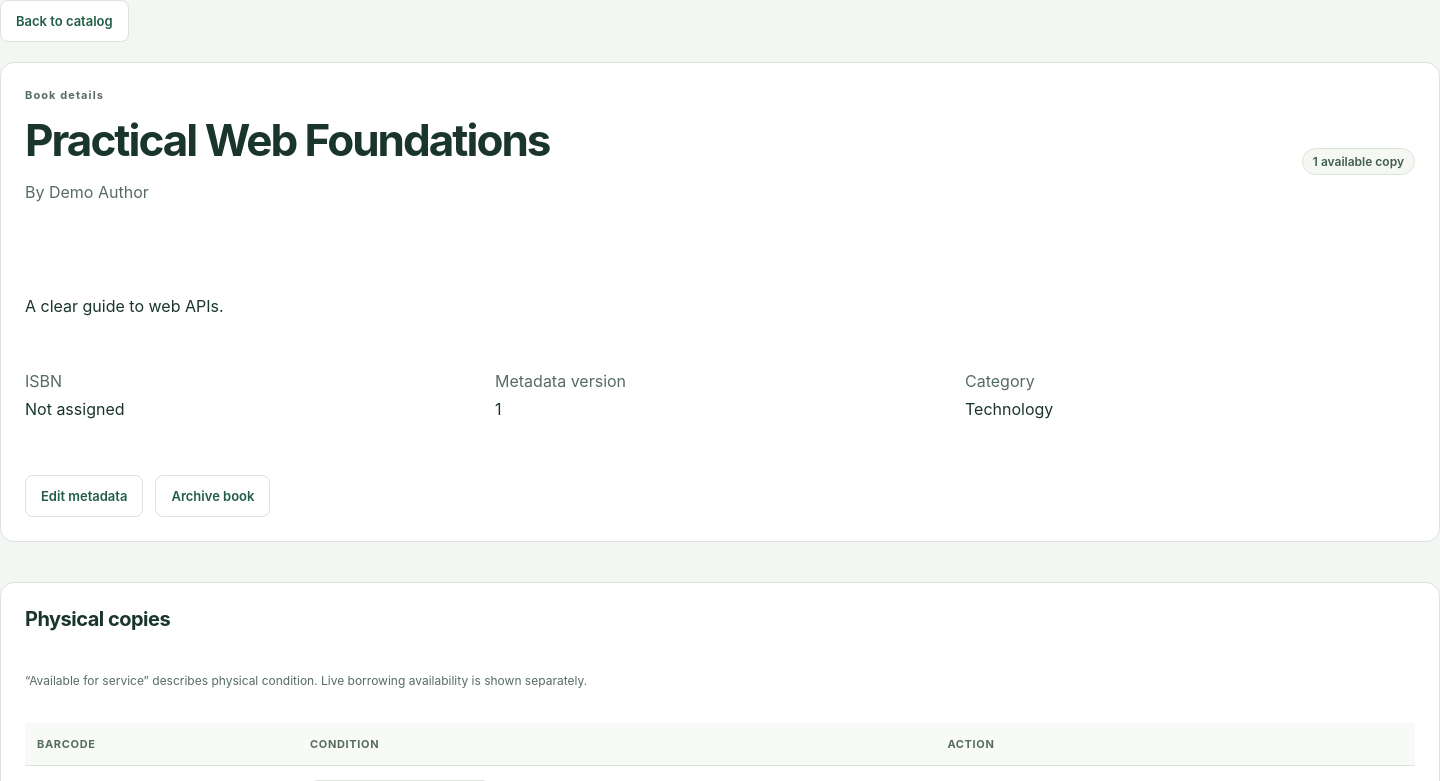
Test: catalog and copy screens › submits only editable book metadata and excludes resource DTO fields
The image size is (1440, 781).
Check: the heading "Practical Web Foundations" is shown, box 25,112 -> 550,166
Step 1. Click the button "Edit metadata" → (84, 496), box 25,475 -> 144,517
(page scrolled)
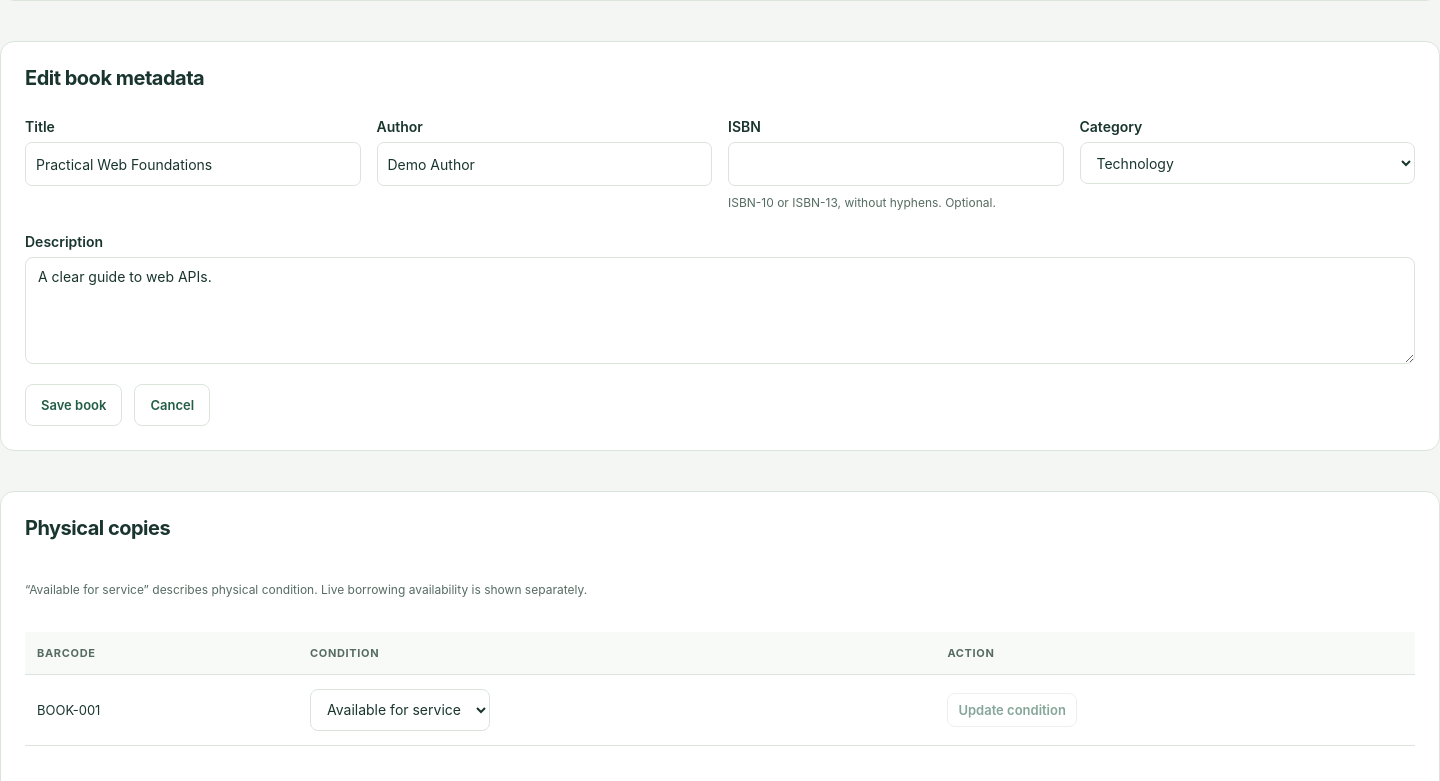
Step 2. Click the button "Save book" → (74, 405), box 25,384 -> 122,426
(page scrolled)
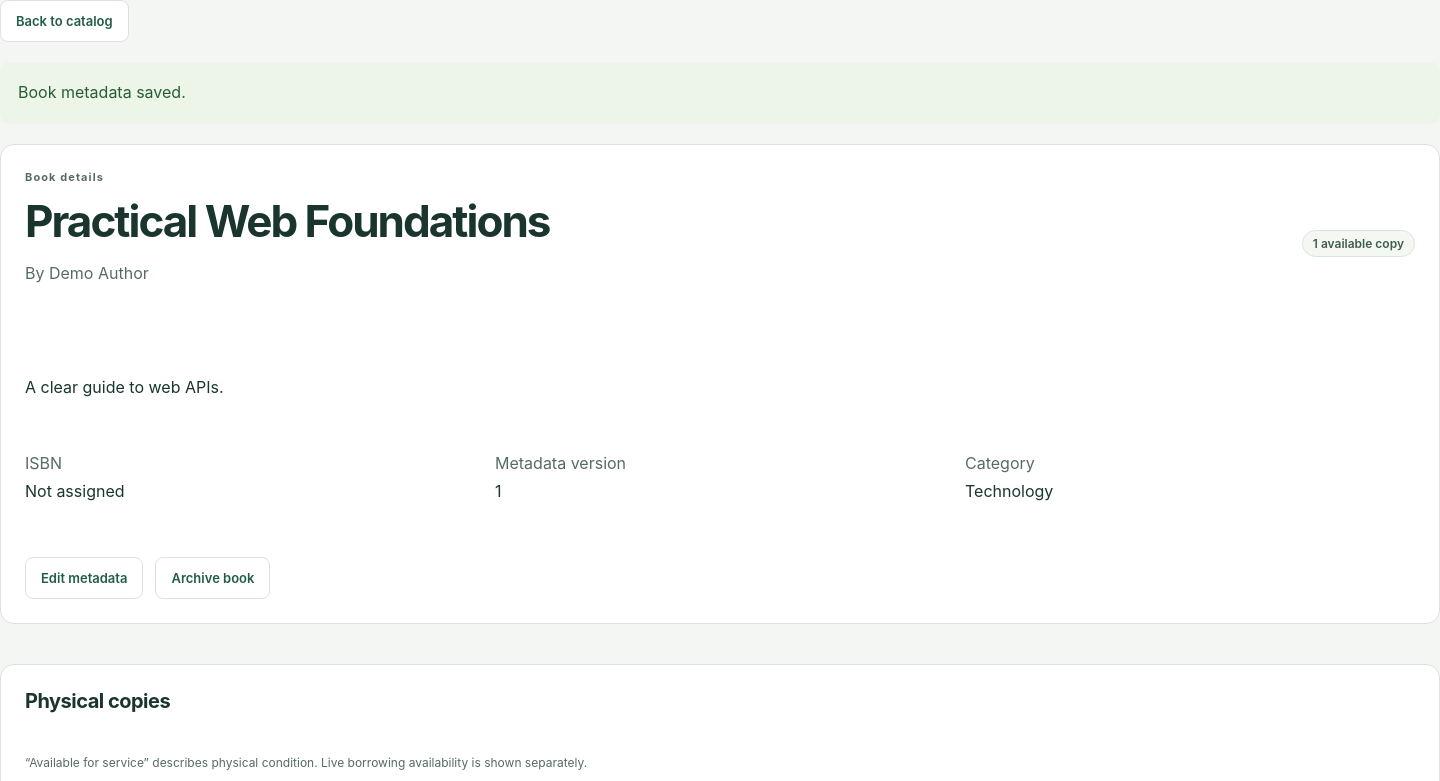
Check: the text "Book metadata saved." is shown, box 0,62 -> 1439,124
